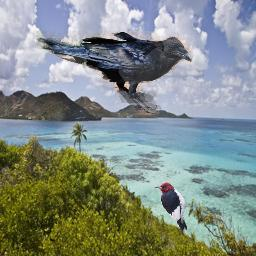Crow: (36, 31, 193, 115)
Woodpecker: (154, 182, 187, 230)
